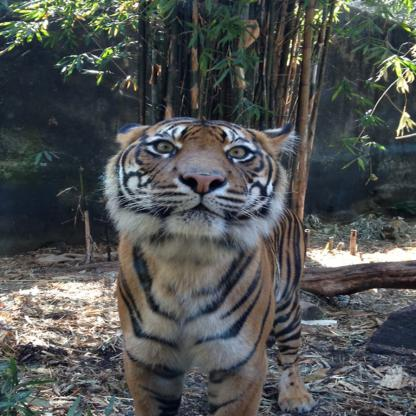tiger: (121, 114, 281, 252)
